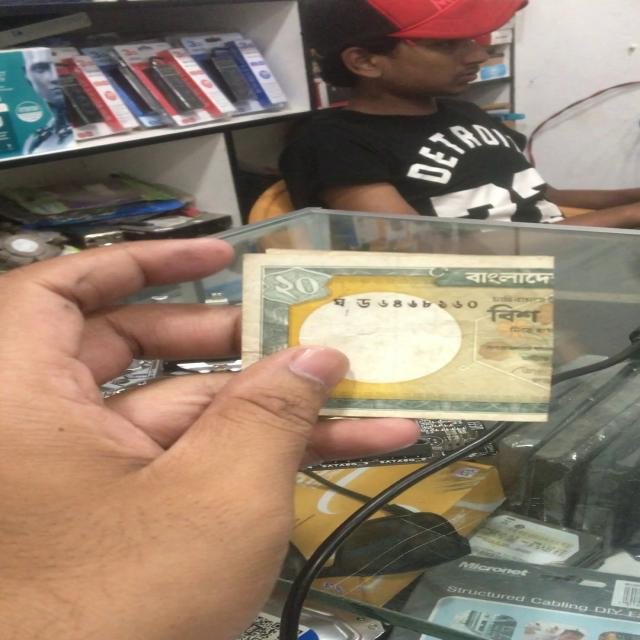Taka: (246, 252, 560, 426)
